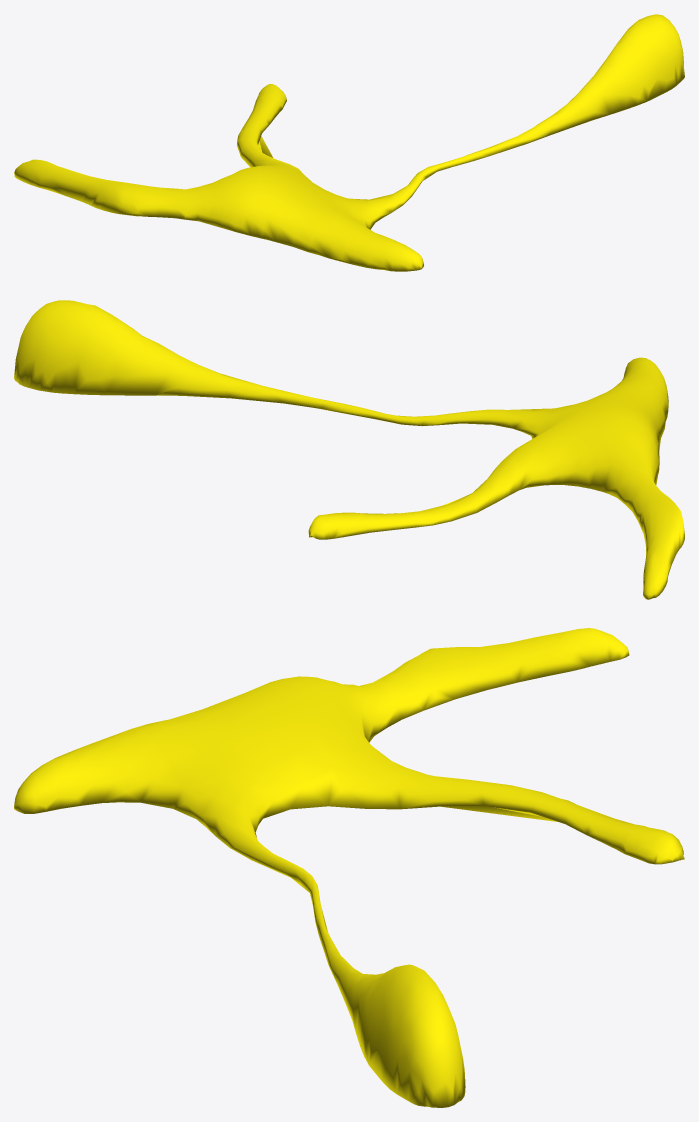
File: puddle-2.glb
3 views of the same model, one above another, from view 1: azimuth 30°, elevation 25°; view 2: azimuth 150°, elevation 25°; view 3: azimuth 270°, elevation 25° (orthographic). The views are drawn at different scales.
Visible parts, largest first — view 1: CurveFluidGround2; view 2: CurveFluidGround2; view 3: CurveFluidGround2.
Boxes of the visible parts, left/top/right/bottom form: CurveFluidGround2: left=14, top=14, right=684, bottom=271; CurveFluidGround2: left=14, top=300, right=684, bottom=599; CurveFluidGround2: left=14, top=628, right=684, bottom=1107.
Bounding box in the file's own units: 0.6531 × 0.07 × 0.4056.
